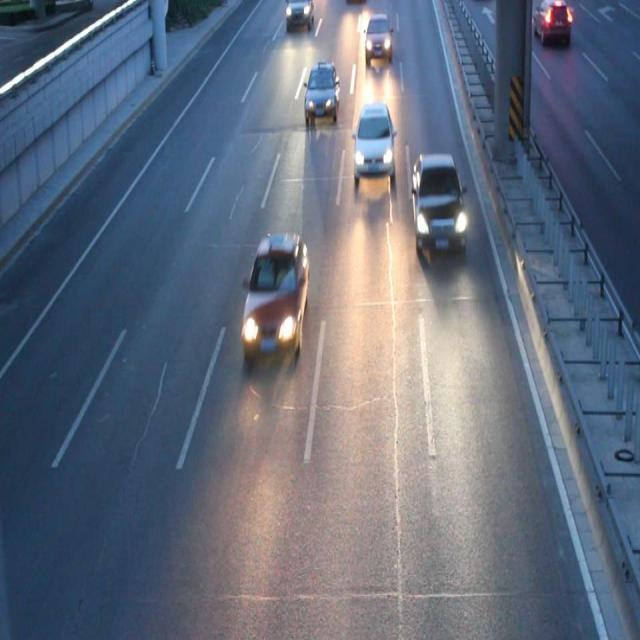car: (241, 232, 308, 362), (408, 154, 464, 258), (351, 103, 394, 187), (304, 63, 339, 123), (364, 14, 392, 66), (285, 1, 312, 31)
